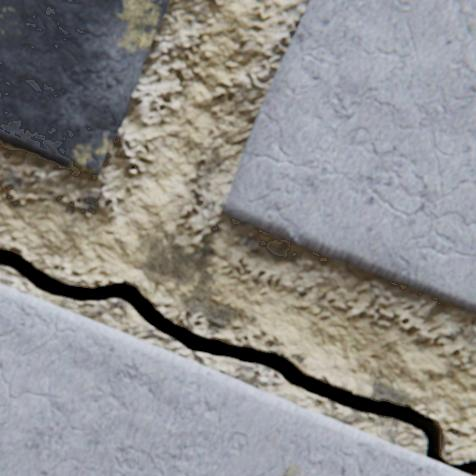brick: (0, 283, 469, 475), (224, 0, 475, 312), (0, 0, 170, 177)
crack: (0, 249, 475, 475)
